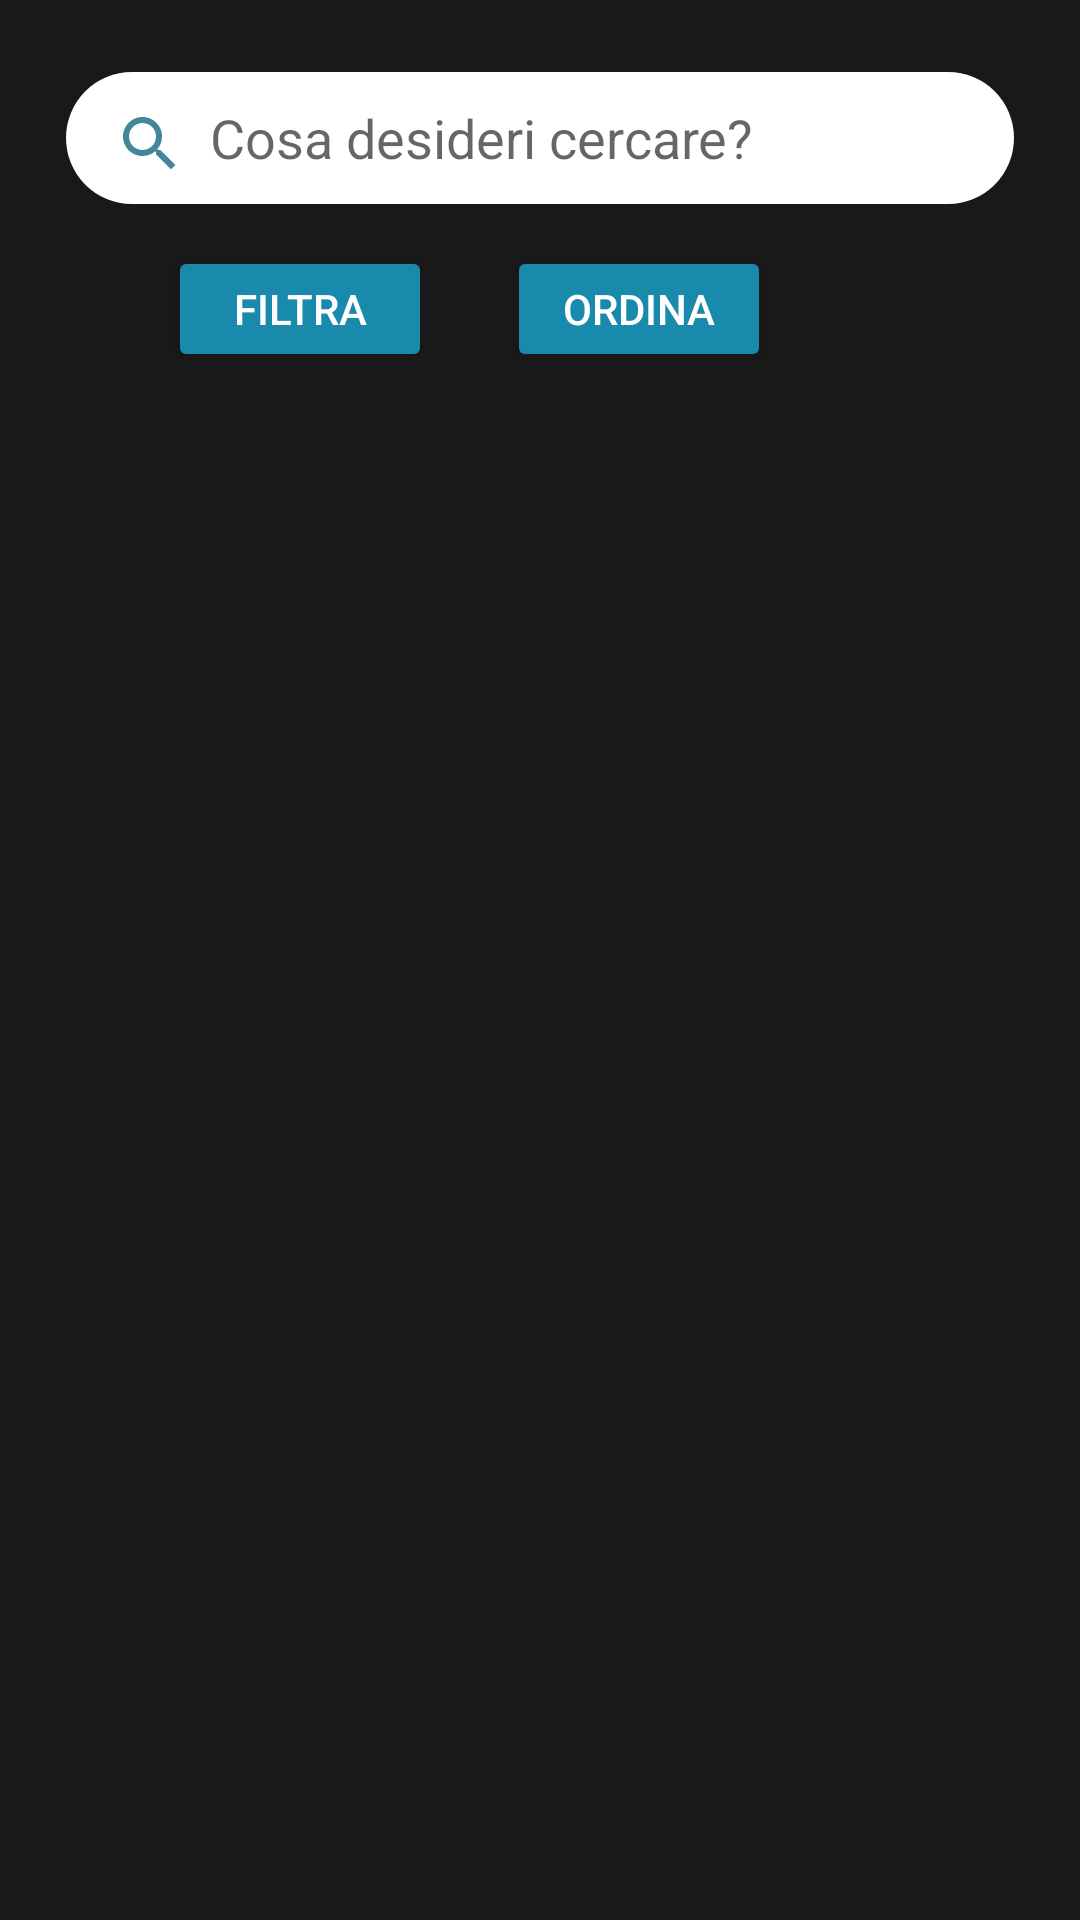

Where icons sit on this 1080 x 1920 app screen, as (x1, y1, x2, y2):
search: (123, 117, 175, 169)
